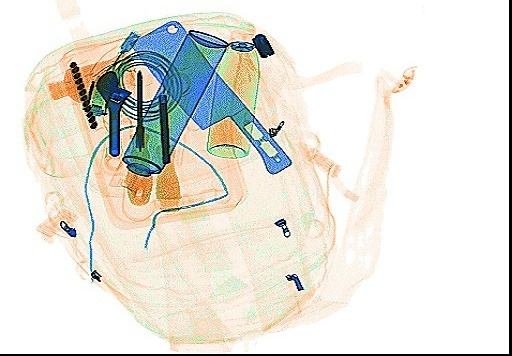knife: (128, 19, 295, 175)
pressure: (104, 26, 232, 201), (204, 24, 258, 161)
